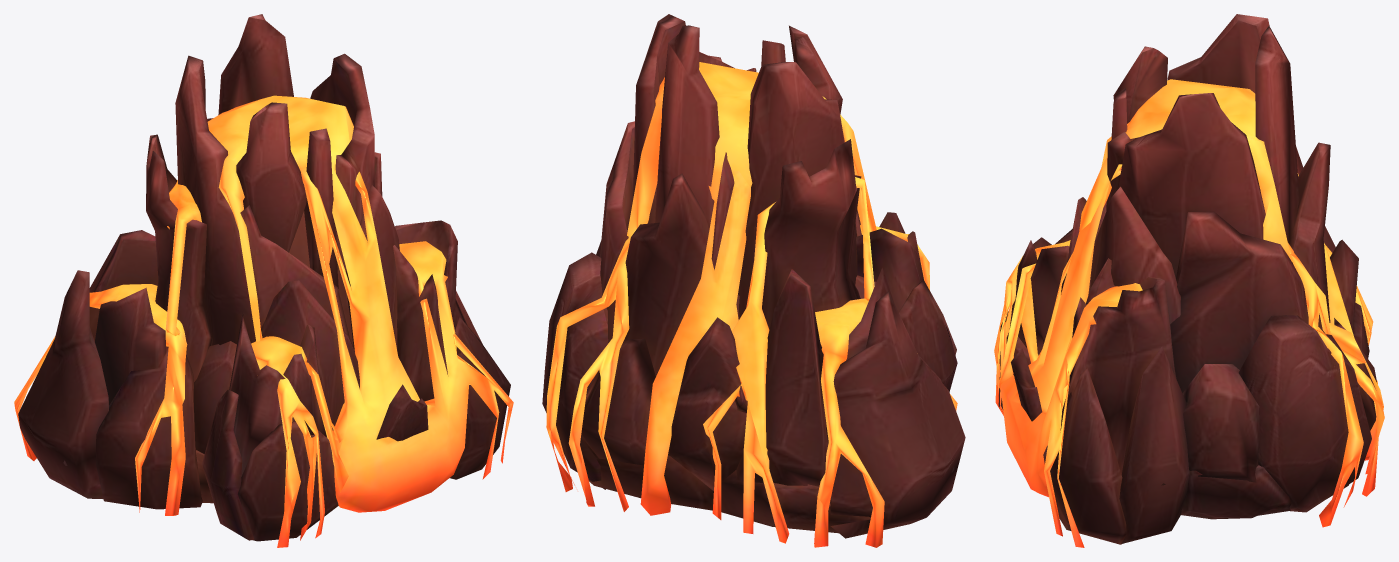
File: molten_mountdoom_core.glb
The picture shows the model from 3 angles, left to right: view 1: azimuth 30°, elevation 25°; view 2: azimuth 150°, elevation 25°; view 3: azimuth 270°, elevation 25°; orthographic projection. The views are drawn at different scales.
Visible parts, largest first — view 1: SM_MLTN_HRO_MountDoom_01; view 2: SM_MLTN_HRO_MountDoom_01; view 3: SM_MLTN_HRO_MountDoom_01.
Boxes of the visible parts, x1,y1,x2,y2 form: SM_MLTN_HRO_MountDoom_01: [14, 14, 513, 547]; SM_MLTN_HRO_MountDoom_01: [542, 14, 965, 547]; SM_MLTN_HRO_MountDoom_01: [994, 14, 1384, 547].
Bounding box in the file's own units: 32.43 × 33.31 × 26.04.
Materials: 1 (1 with a texture image).
